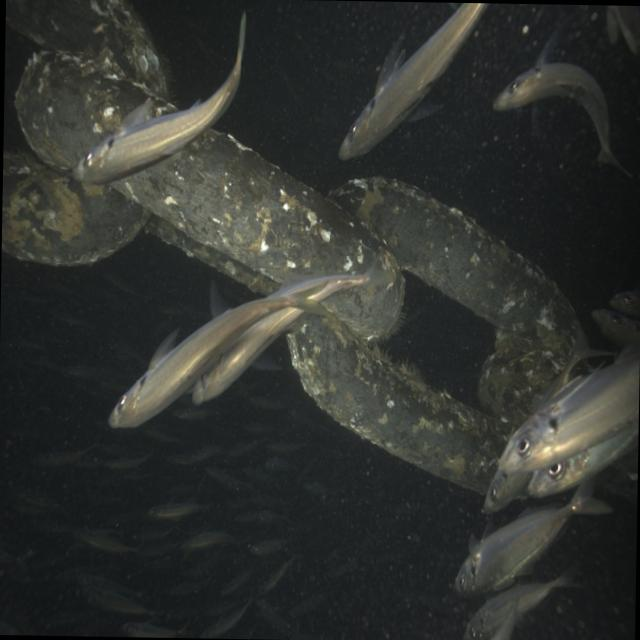ChainLink: (112, 130, 404, 338), (333, 179, 579, 354), (287, 316, 507, 492), (1, 150, 149, 264), (5, 0, 168, 99), (15, 52, 145, 167), (477, 329, 566, 426)
